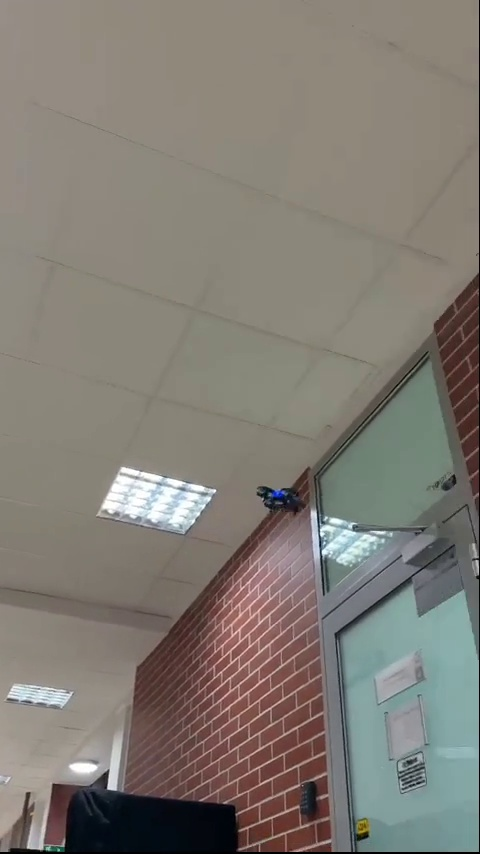drone: (255, 484, 307, 514)
